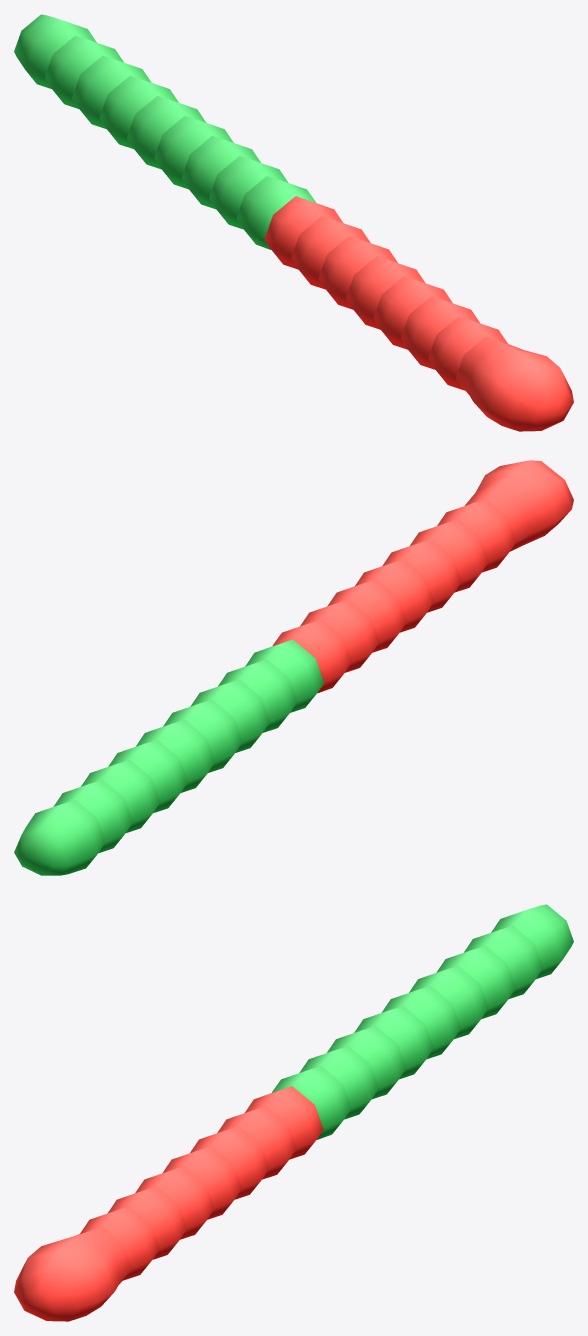
File: MarmaladeSnake_01.glb
The picture shows the model from 3 angles, top to bottom: view 1: azimuth 30°, elevation 25°; view 2: azimuth 150°, elevation 25°; view 3: azimuth 330°, elevation 25°; orthographic projection.
Visible parts, largest first — view 1: MarmaladeSnake_01; view 2: MarmaladeSnake_01; view 3: MarmaladeSnake_01.
Part boxes in pixels (x1,y1,x2,y2): MarmaladeSnake_01: [14, 14, 573, 431]; MarmaladeSnake_01: [14, 460, 573, 875]; MarmaladeSnake_01: [14, 904, 573, 1321].
Size of the model in its own units: 0.8882 by 0.6578 by 9.35.
1 material, 1 textured.
